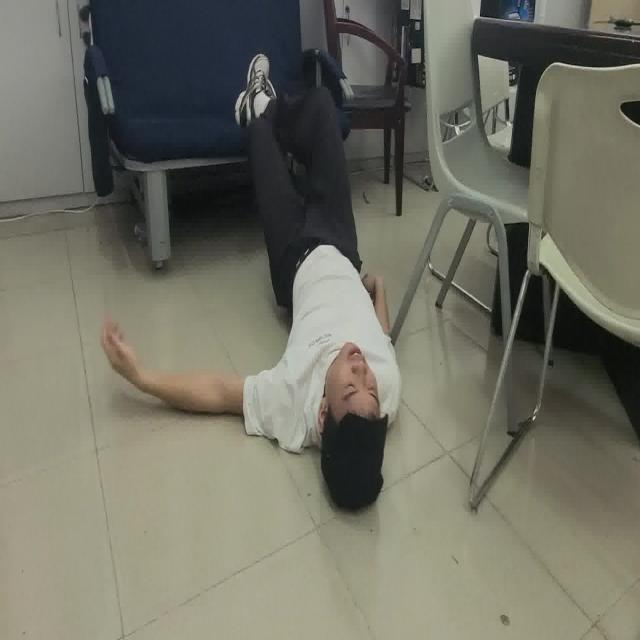fall: (100, 49, 404, 512)
